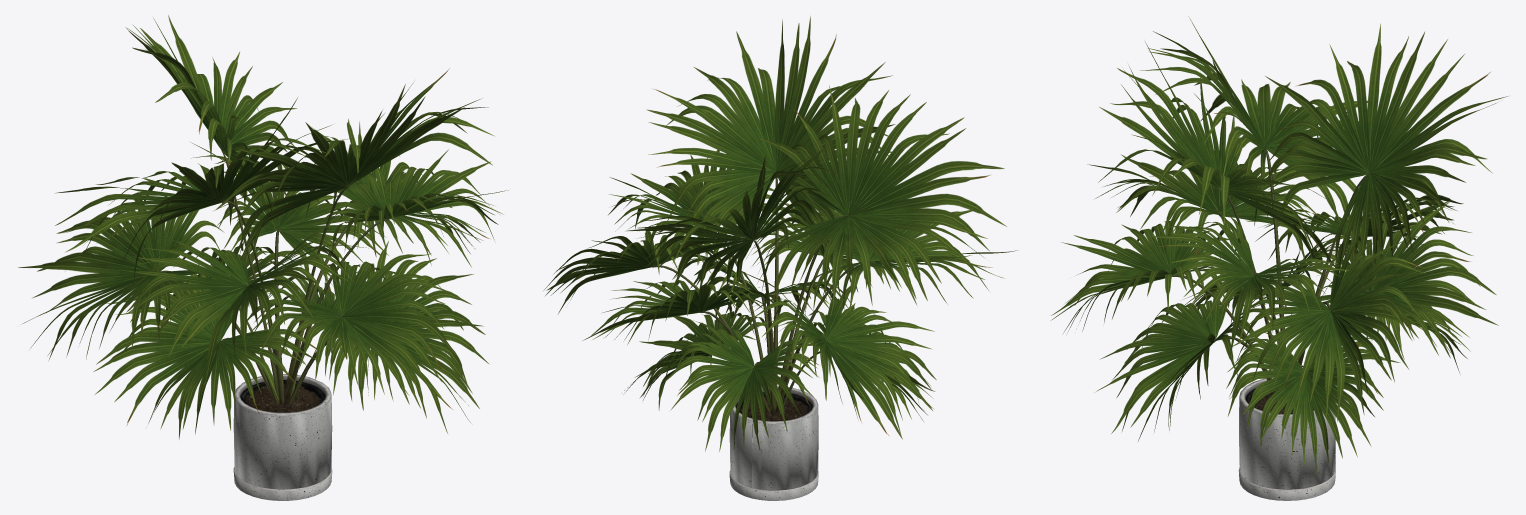
Rendered from fan-palm.glb.
3 views of the same model, side by side, from view 1: azimuth 30°, elevation 25°; view 2: azimuth 150°, elevation 25°; view 3: azimuth 270°, elevation 25° (orthographic). The views are drawn at different scales.
Visible parts, largest first — view 1: LIVISTONA_CHINENSIS_LIVISTONA_CHINENSIS_Mat_0, PLANTER_TERRA_BASE_PLANTER_BOTTOM_CROSS_Mat_0; view 2: LIVISTONA_CHINENSIS_LIVISTONA_CHINENSIS_Mat_0, PLANTER_TERRA_BASE_PLANTER_BOTTOM_CROSS_Mat_0; view 3: LIVISTONA_CHINENSIS_LIVISTONA_CHINENSIS_Mat_0, PLANTER_TERRA_BASE_PLANTER_BOTTOM_CROSS_Mat_0.
Boxes of the visible parts, <box> form: LIVISTONA_CHINENSIS_LIVISTONA_CHINENSIS_Mat_0: <box>18,15,508,439</box>; PLANTER_TERRA_BASE_PLANTER_BOTTOM_CROSS_Mat_0: <box>233,374,332,500</box>; LIVISTONA_CHINENSIS_LIVISTONA_CHINENSIS_Mat_0: <box>543,16,1017,451</box>; PLANTER_TERRA_BASE_PLANTER_BOTTOM_CROSS_Mat_0: <box>729,386,818,500</box>; LIVISTONA_CHINENSIS_LIVISTONA_CHINENSIS_Mat_0: <box>1051,16,1507,474</box>; PLANTER_TERRA_BASE_PLANTER_BOTTOM_CROSS_Mat_0: <box>1238,377,1335,500</box>.
Size of the model in its own units: 1.57 by 1.5 by 1.43.
2 materials, 2 textured.
